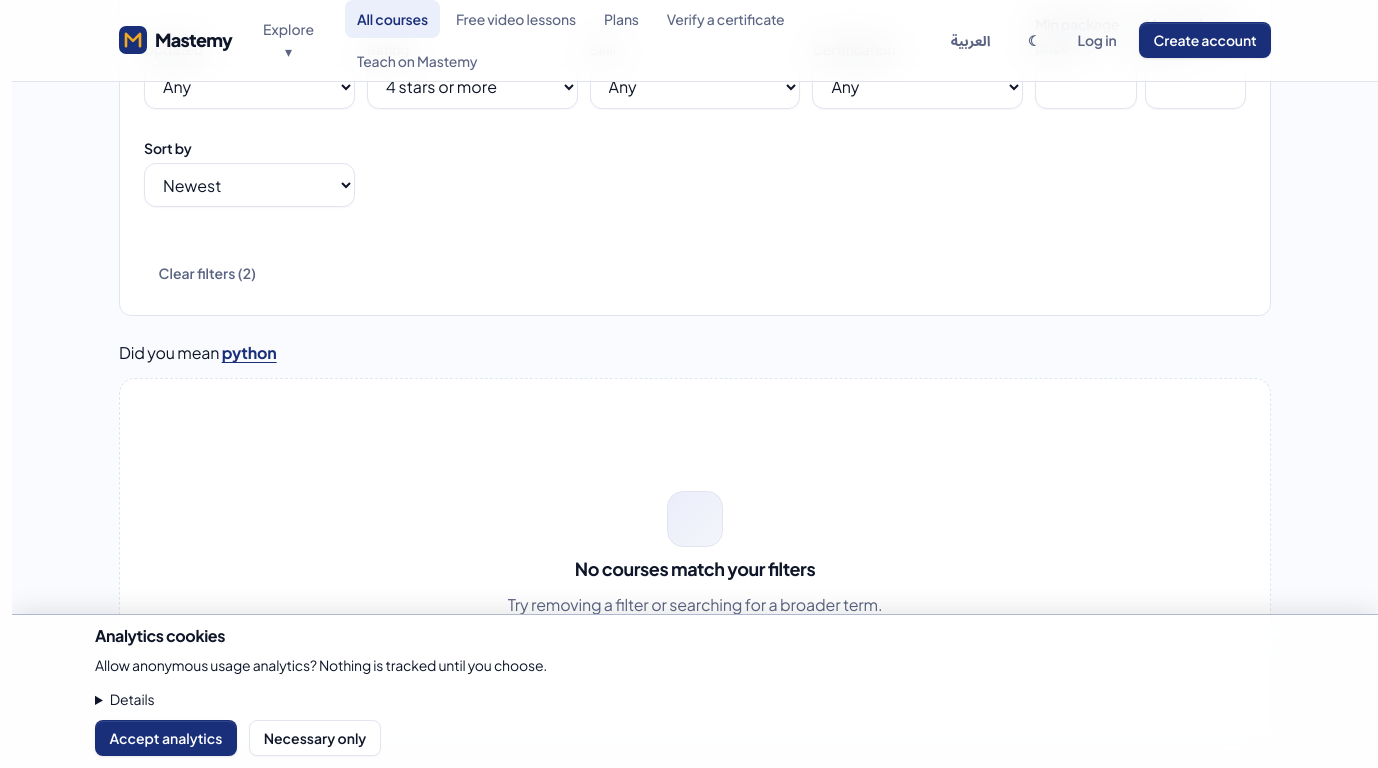
Test: all courses page › sends extended filters from the URL and offers didYouMean
(page scrolled)
Click the link "python". click: (249, 353)
box: [222,342,277,363]
(page scrolled)
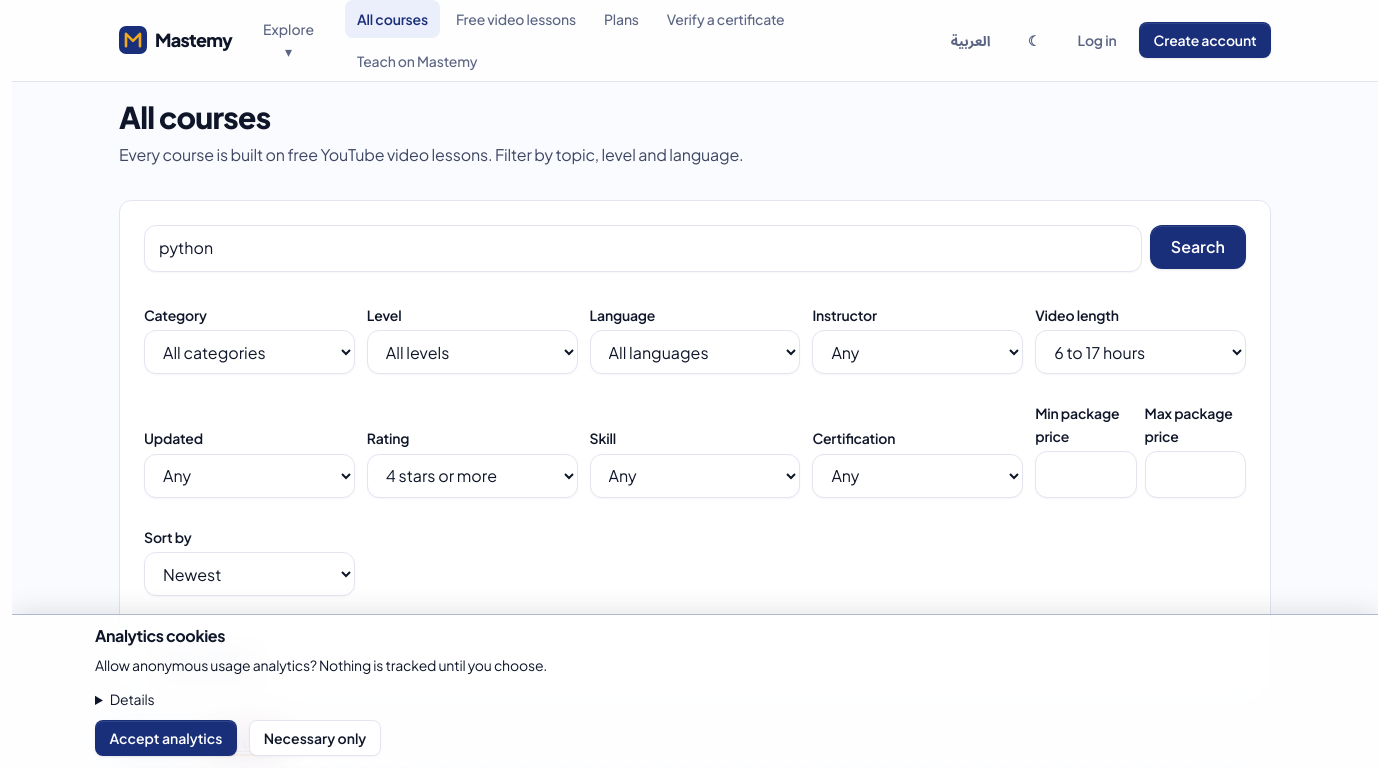
Note: Changing a filter writes it to the URL.
Select "Under 2 hours" in the dropdown labelled "Video length". click: (1141, 352)
box: [1035,330,1246,374]
(page scrolled)
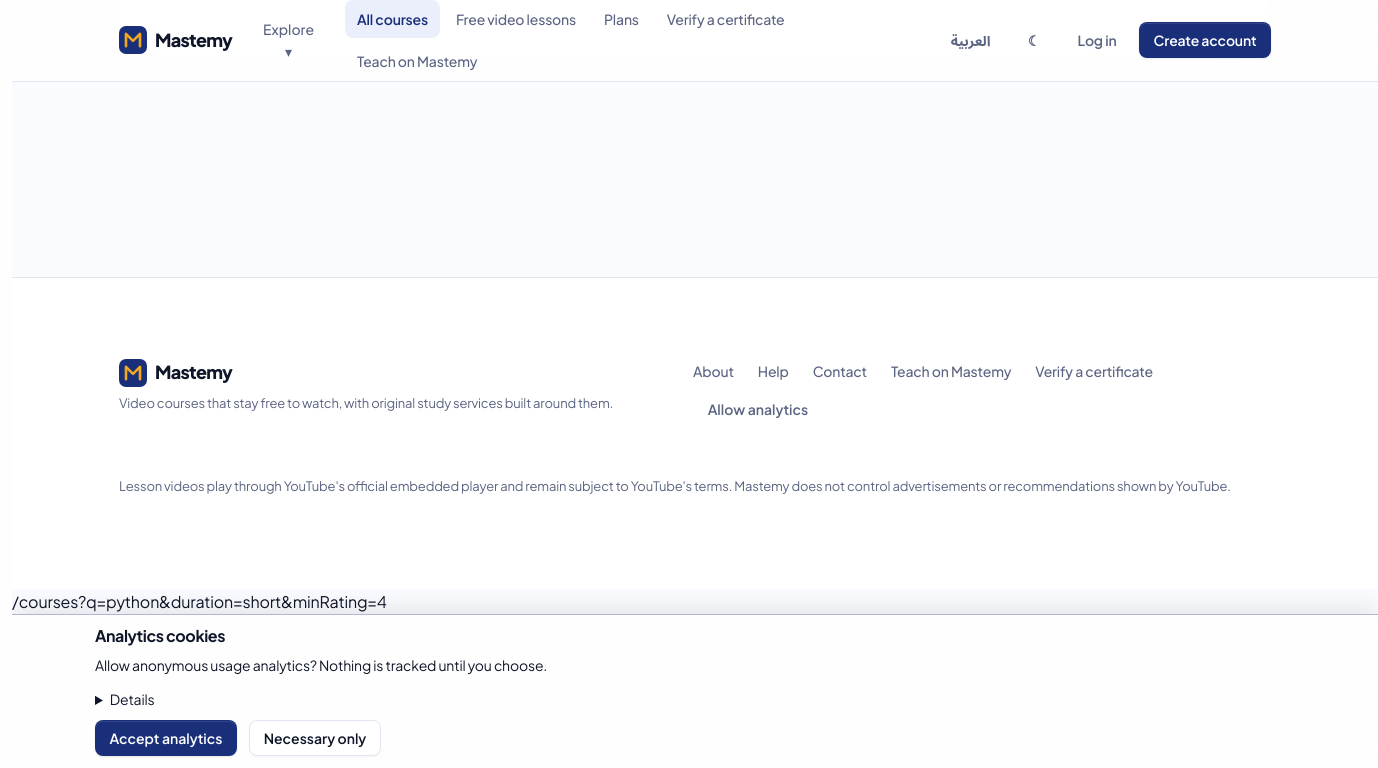
Check: the text with test id "where" shows "duration=short", box [12,591,387,612]
